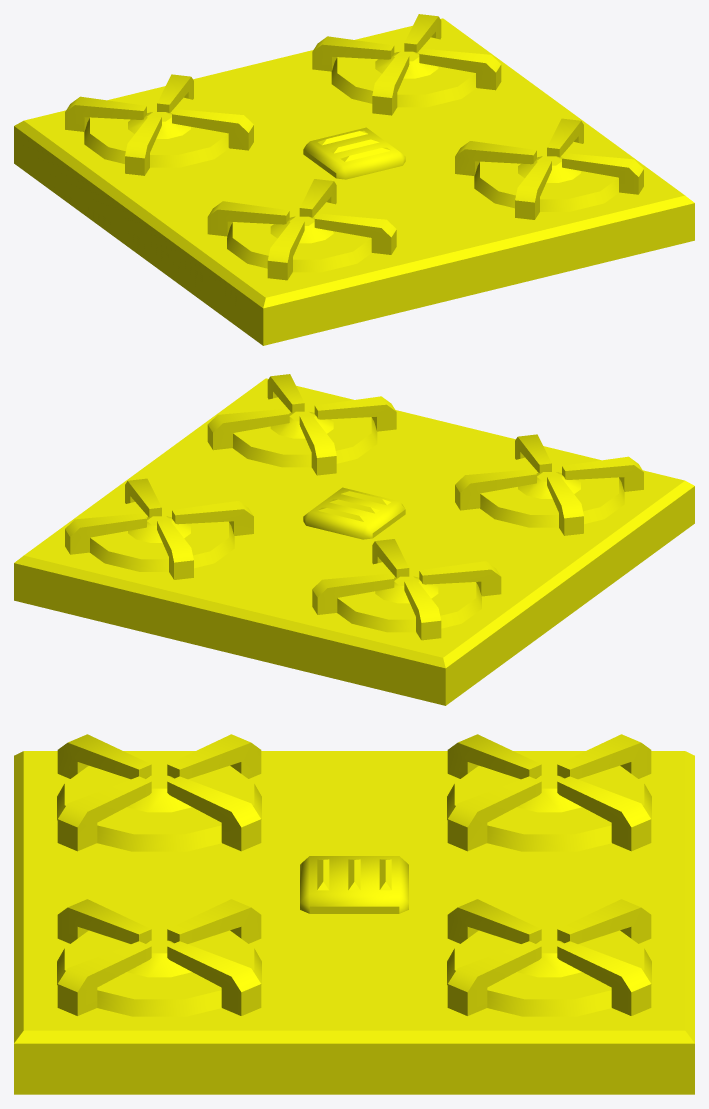
File: kaykit-stove-multi-countertop.glb
The picture shows the model from 3 angles, top to bottom: view 1: azimuth 30°, elevation 25°; view 2: azimuth 150°, elevation 25°; view 3: azimuth 270°, elevation 25°; orthographic projection. The views are drawn at different scales.
Parts seen in each view (by area): view 1: stove_multi_countertop; view 2: stove_multi_countertop; view 3: stove_multi_countertop.
Part boxes in pixels (x1,y1,x2,y2): stove_multi_countertop: (14, 14, 694, 345); stove_multi_countertop: (14, 374, 694, 705); stove_multi_countertop: (14, 734, 694, 1094).
Bounding box in the file's own units: 1.75 × 0.2701 × 1.75.
